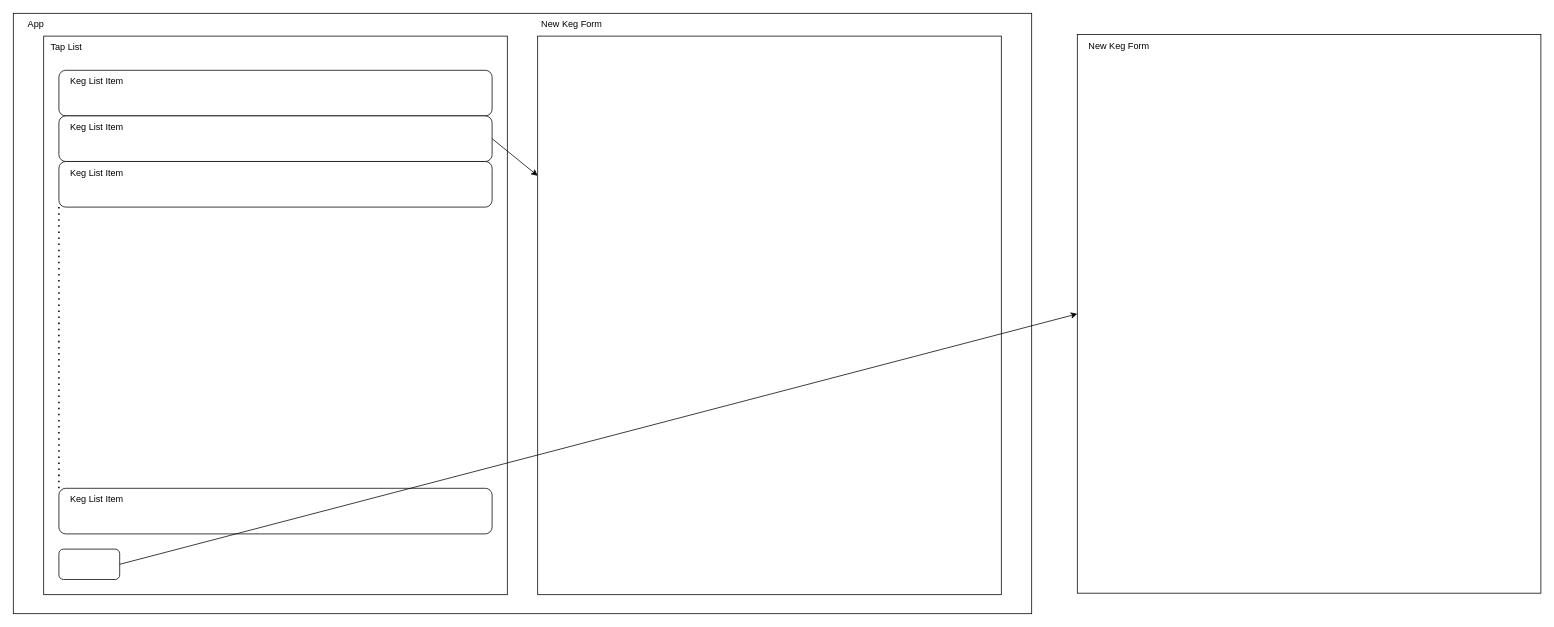
Image size: 1554x627. Some labels were removed from this diagram. The box of each missing label's shape, as (x1, y1, x2, y2) in pixels:
Add Keg: (58, 548, 120, 580)
Details: (537, 35, 1001, 595)
